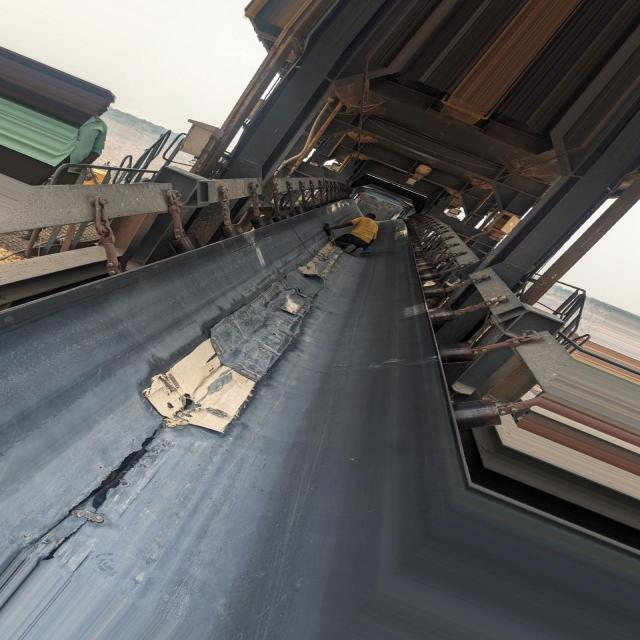Human: (323, 214, 379, 257)
Roller: (418, 257, 504, 430), (172, 201, 329, 256)
Tear: (95, 442, 152, 510)
patch work: (140, 268, 326, 433)
